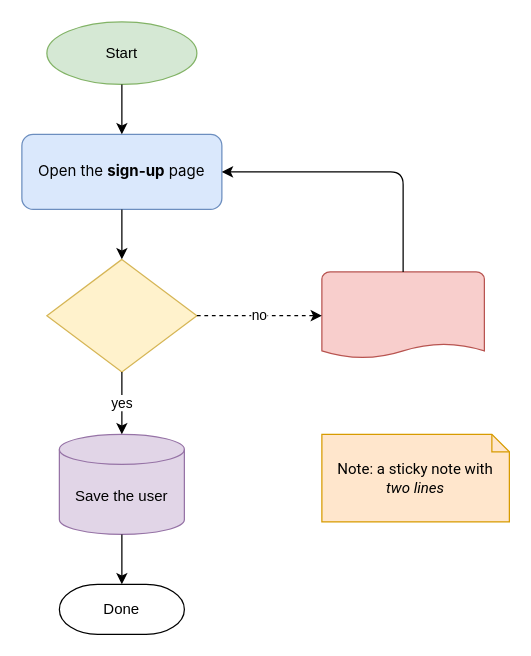
This 531x656 diagram has some shape labels left out. The shapes that lost their labels are listed below. From the top down, each one's centre as x and y in pixels, then its label:
At [121,315]: "Email valid?".
At [402,315]: "Show an error".
